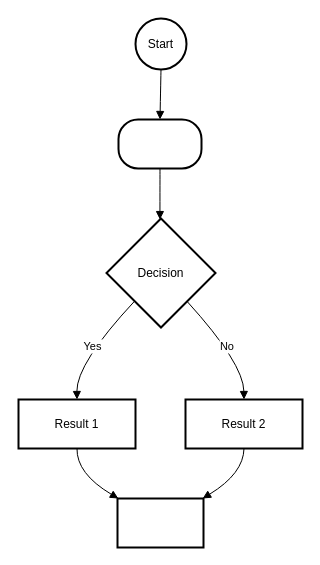
Image size: 320x565. Some labels were removed from this diagram. Here are the shapes that lost their labels. From the top down, the centre of each, then its label:
At point 159,143: "Process".
At point 160,522: "End".
